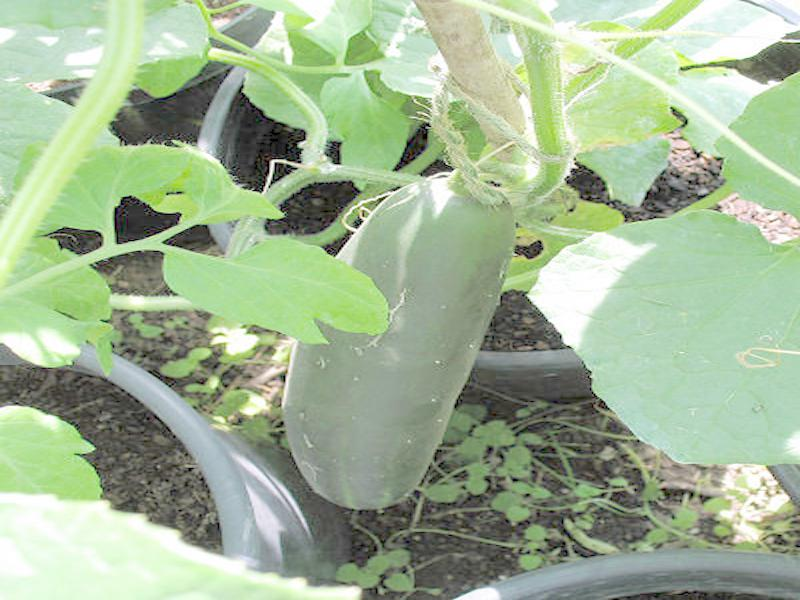Cucumber: (284, 175, 516, 509)
